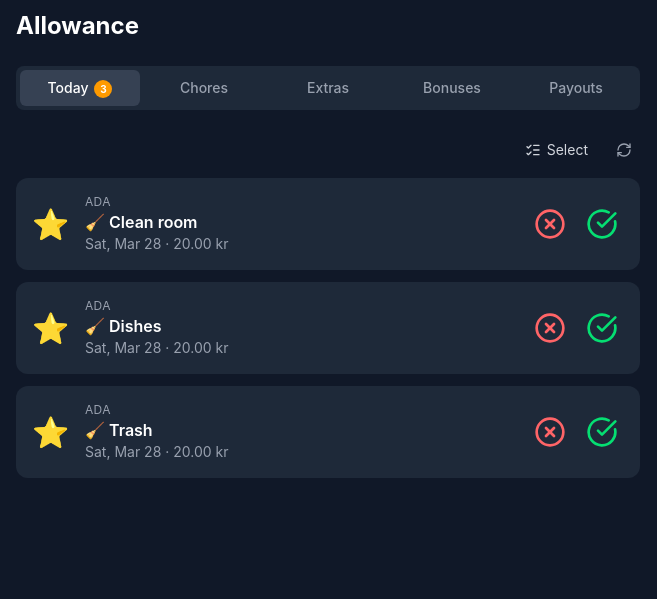
AllowancePage bulk approval › disables the batch actions until at least one row is selected
The width and height of the screenshot is (657, 599).
Expected: the text "🧹 Clean room" is shown, [85,212,198,232]
Click the button "Select" at x=556, y=150, box [513,134,600,166]
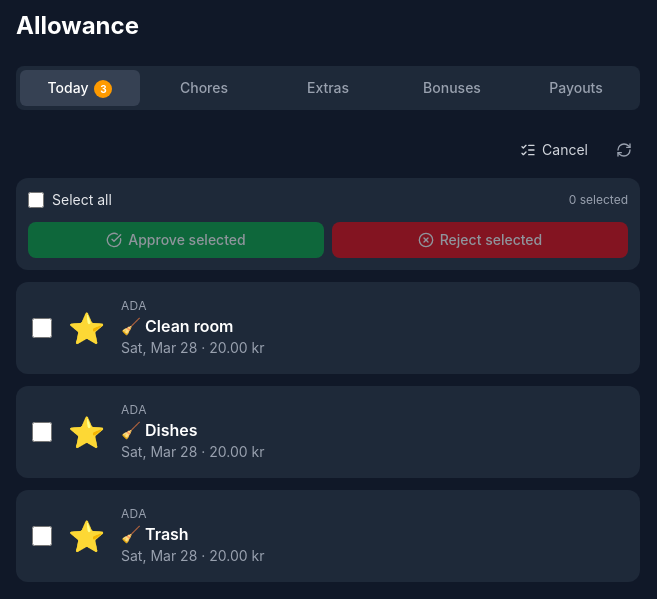
Result: the button "Approve selected" is disabled at [28,222,324,258]
Result: the button "Reject selected" is disabled at [332,222,628,258]
Click the checkbox named "Select Dishes" at x=42, y=432, box [32,422,52,442]
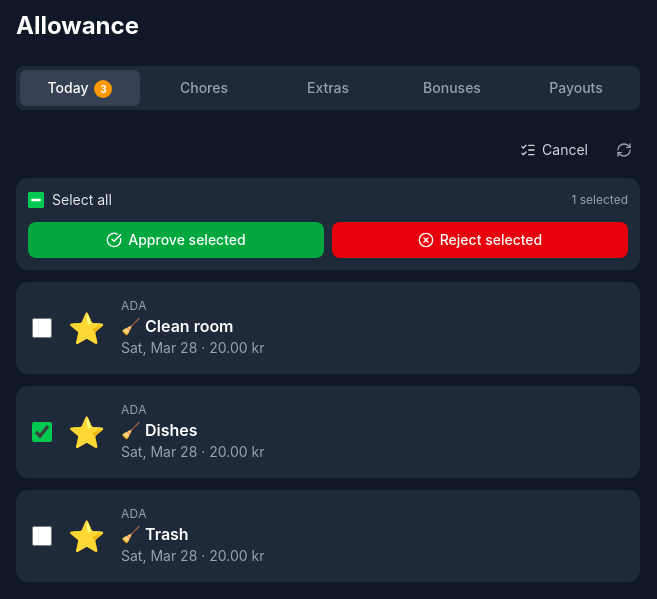
Result: the button "Approve selected" is enabled at [28,222,324,258]
Result: the button "Reject selected" is enabled at [332,222,628,258]
Result: the text "1 selected" is shown at [572,192,628,208]
